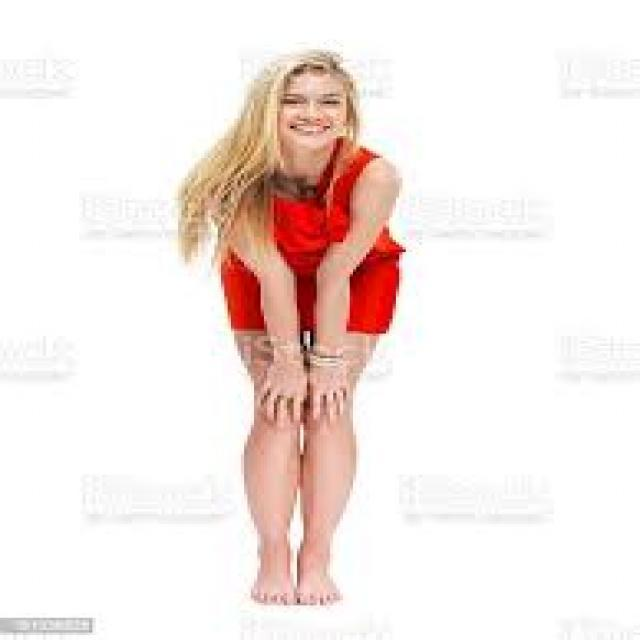No_Goggles: (276, 89, 349, 114)
No_Helmet: (248, 45, 355, 86)
No_Shoe: (248, 552, 299, 608), (292, 559, 346, 609)
Person: (172, 46, 452, 624)
